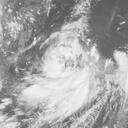cyclone: (39, 30, 90, 80)
